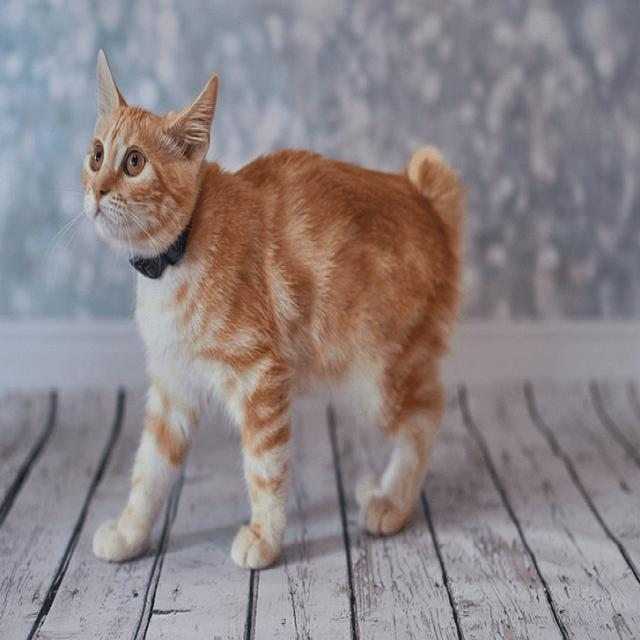American Bobtail: (79, 40, 469, 576)
